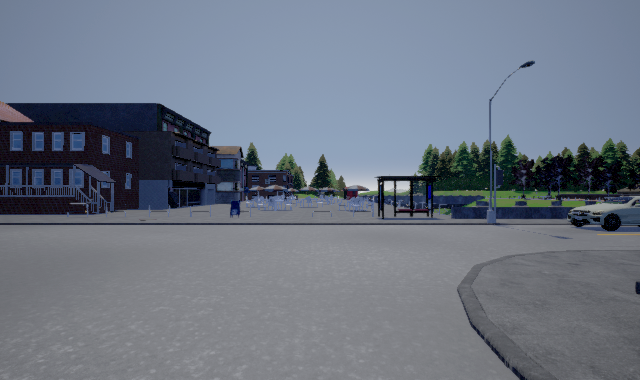vehicle: (567, 196, 640, 231)
